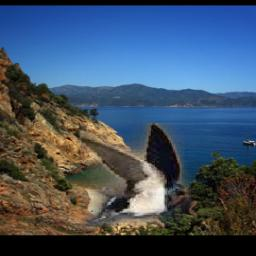Swallow: (79, 124, 190, 227)
